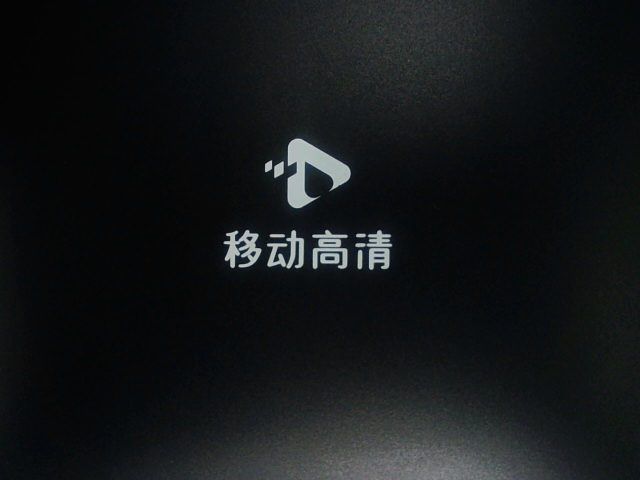AO_MobileHD: (201, 119, 407, 282)
